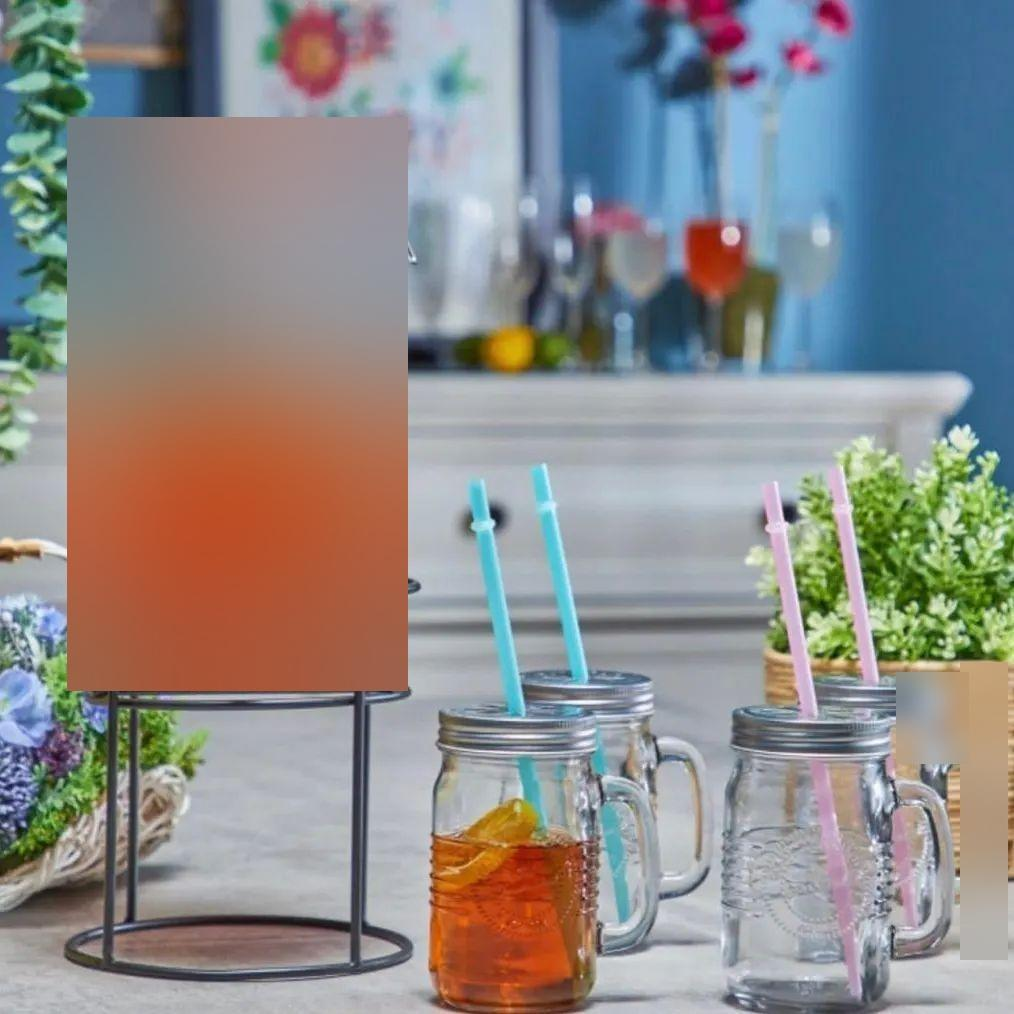glass-mug: (717, 694, 962, 1014), (422, 696, 665, 1010), (517, 657, 723, 960)
